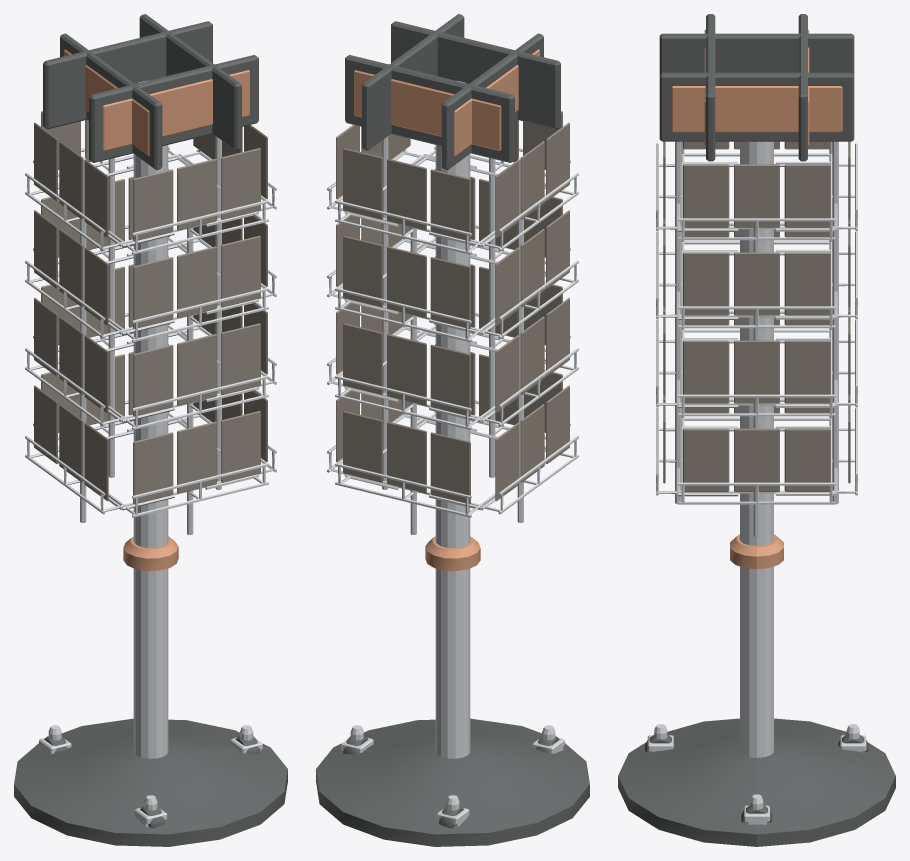
File: garden-centre-and-florist-bulb-packet-spinner-e70ad617__17743.glb
3 renders of one model, left to right at view 1: azimuth 30°, elevation 25°; view 2: azimuth 150°, elevation 25°; view 3: azimuth 270°, elevation 25°, orthographic.
Parts seen in each view (by area): view 1: bulb-packet-spinner; view 2: bulb-packet-spinner; view 3: bulb-packet-spinner.
Boxes of the visible parts, left/top/right/bottom form: bulb-packet-spinner: left=14, top=14, right=287, bottom=846; bulb-packet-spinner: left=316, top=14, right=589, bottom=846; bulb-packet-spinner: left=618, top=14, right=895, bottom=846.
Bounding box in the file's own units: 0.5999 × 1.75 × 0.5999.
